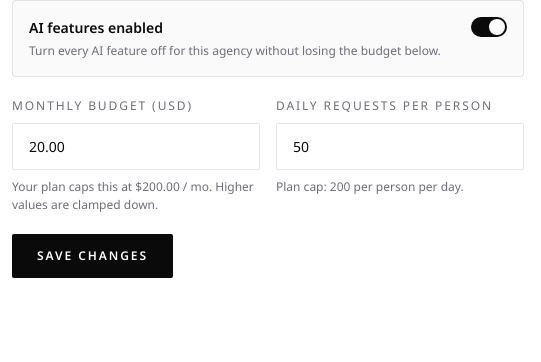
Test case: AiSettingsPanel › submits the budget in cents and shows success
Replace the text in the number field labelled "Monthly budget (USD)" with "35.50" at x=136, y=146, box [12,123,260,170]
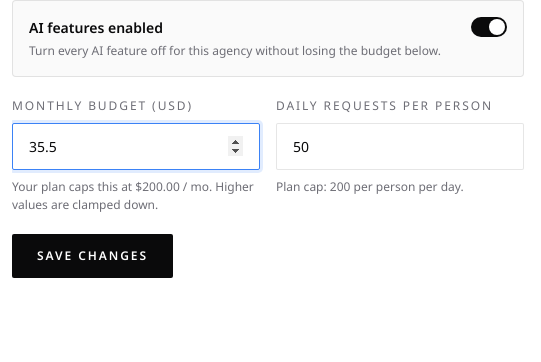
Click the button "Save changes" at x=92, y=256, box [12,234,173,278]
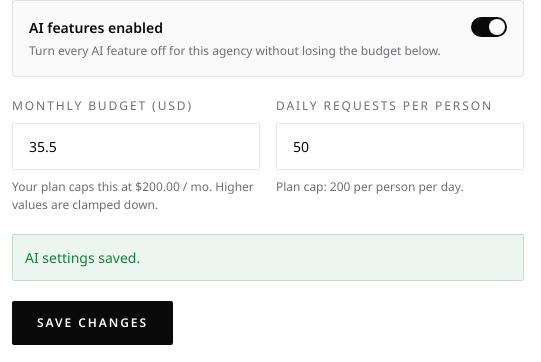
expect the text "AI settings saved." is shown: met, box [12,234,524,281]
